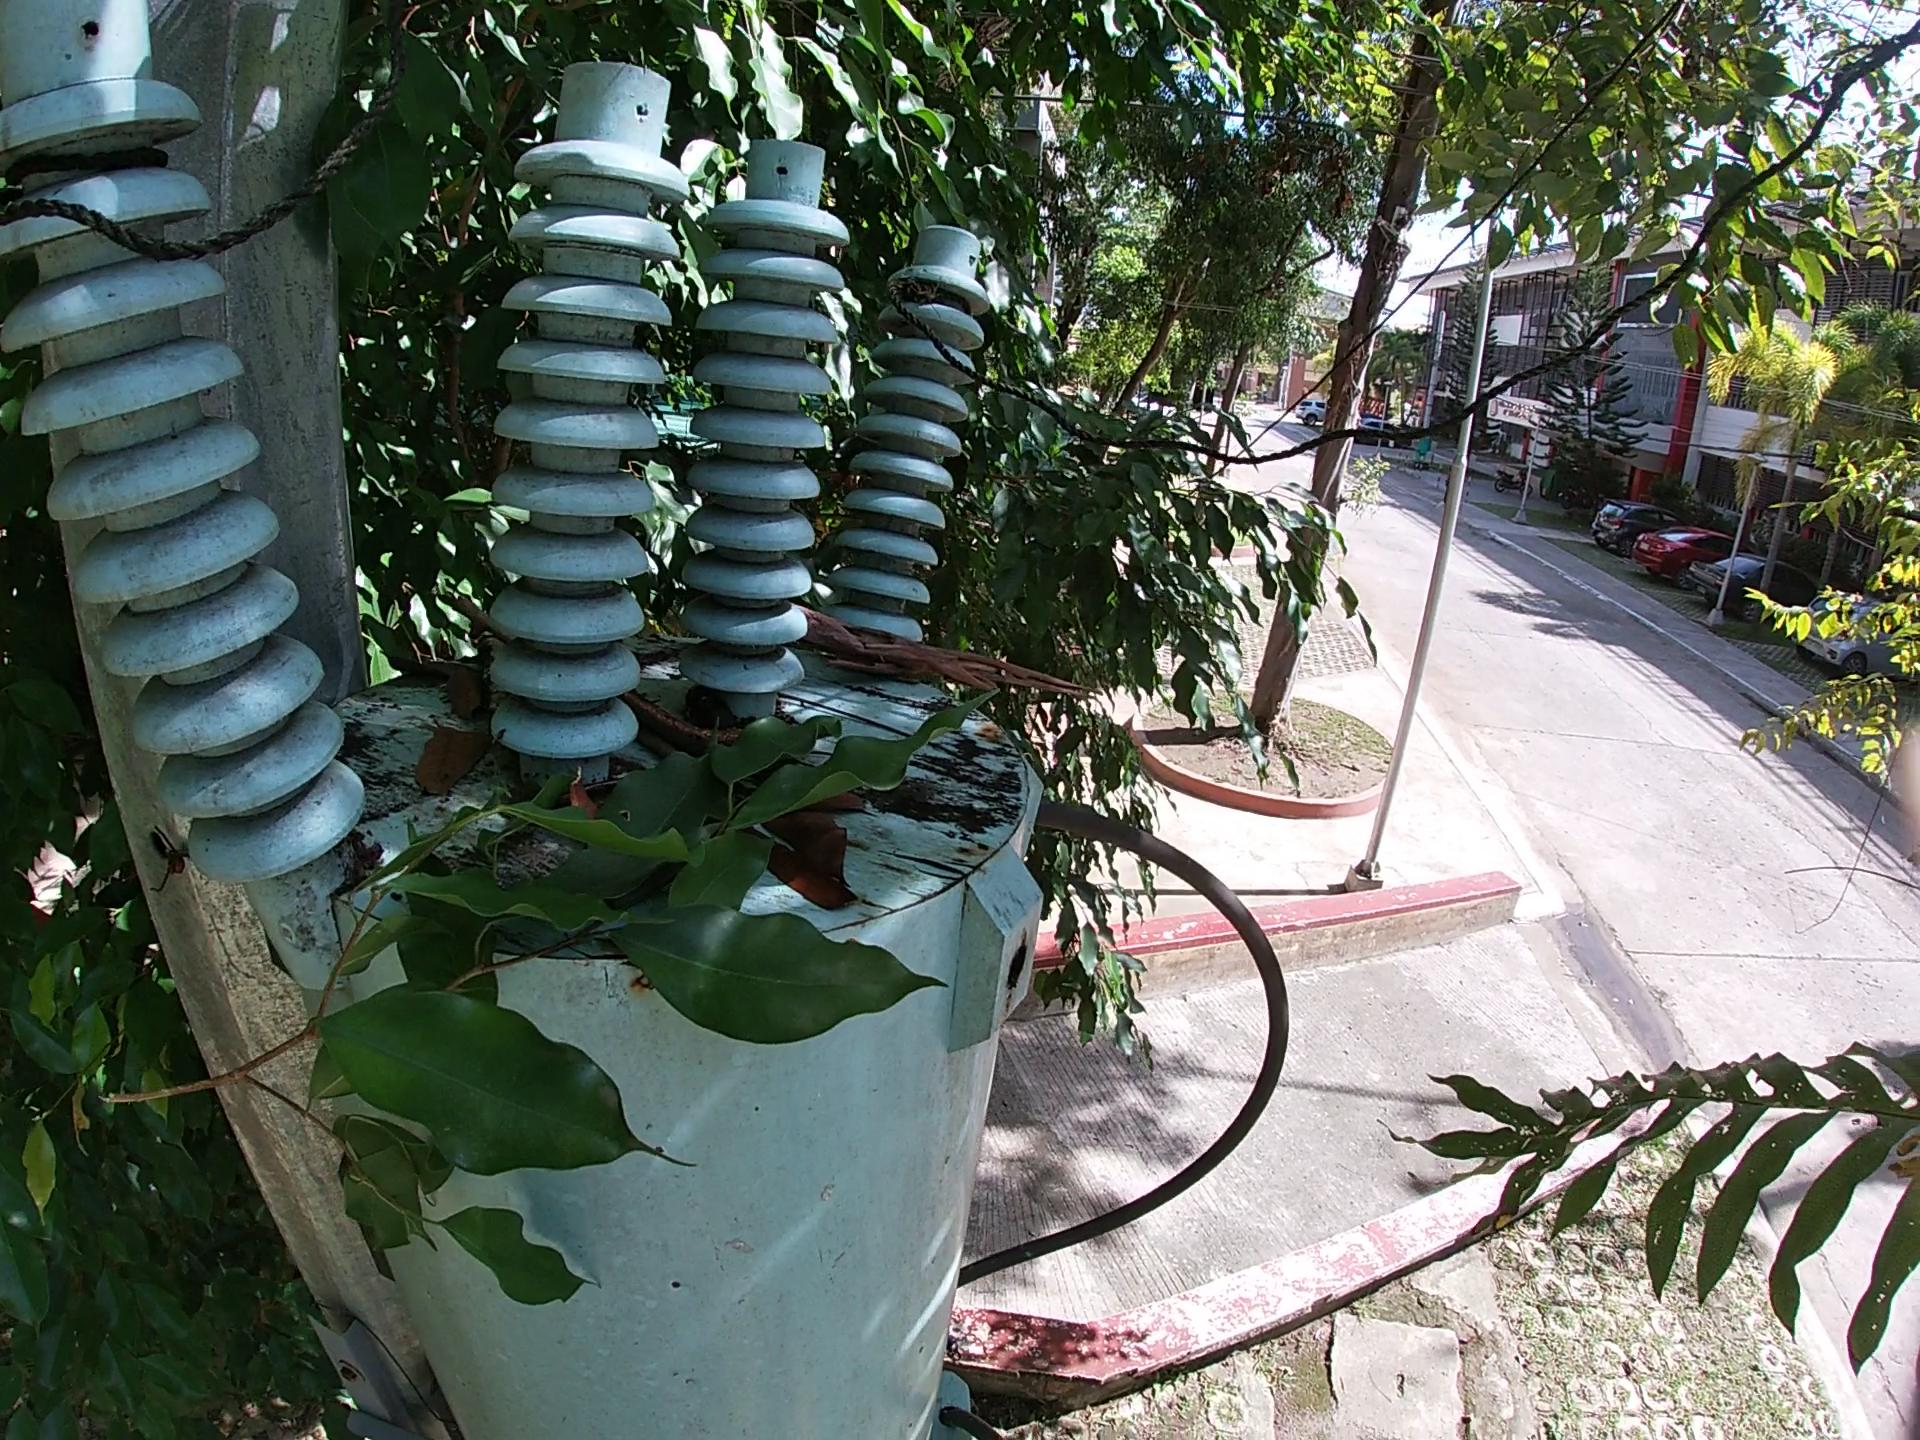branch with leaves: (91, 684, 1005, 1317)
leaf: (747, 829, 859, 917), (411, 712, 494, 806), (759, 806, 853, 882), (438, 659, 488, 726), (798, 785, 881, 820)
mahogany fruit: (623, 691, 748, 756), (564, 767, 602, 818)
tree branch: (789, 599, 1104, 709)
